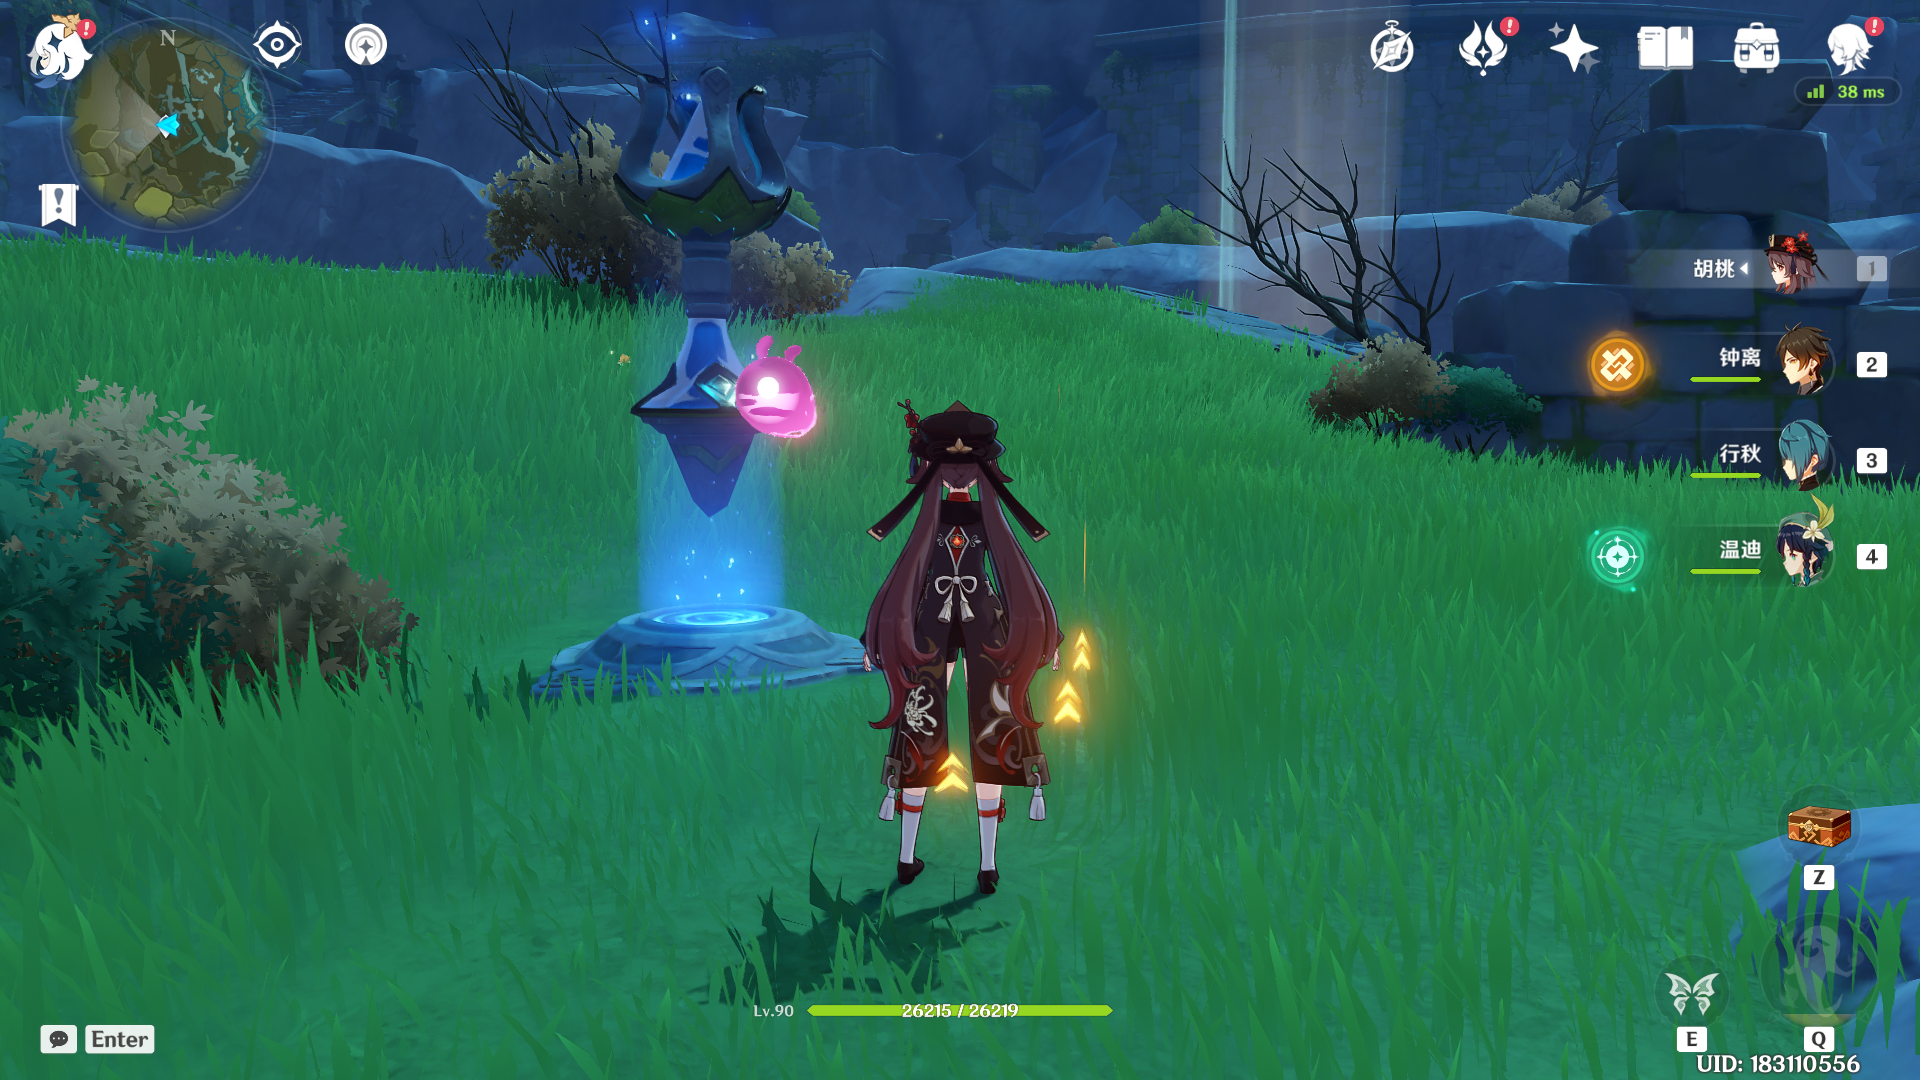character: (816, 364, 1108, 945)
